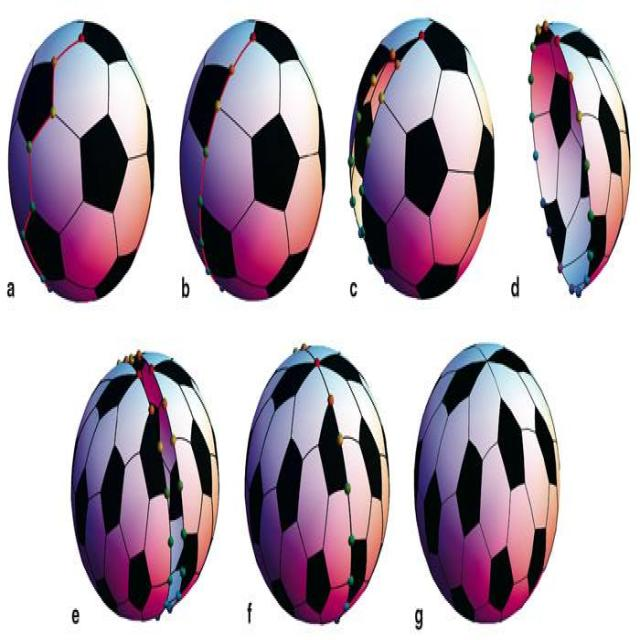Soccer Ball: (8, 21, 154, 302)
